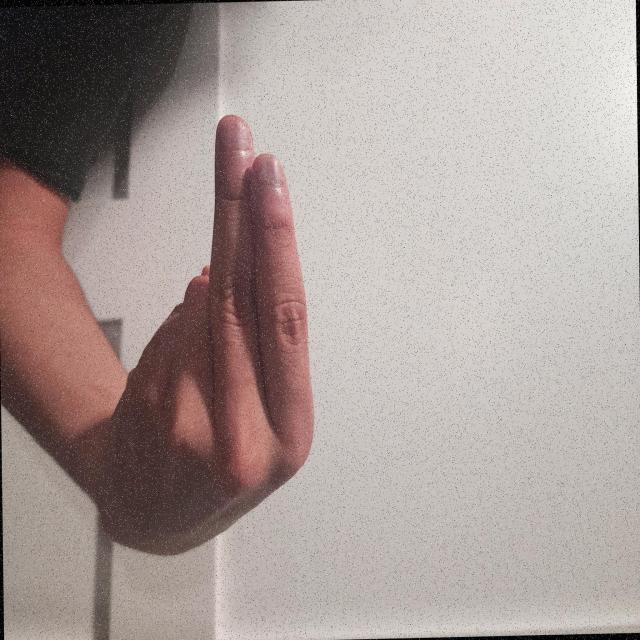H: (239, 415, 575, 640)
